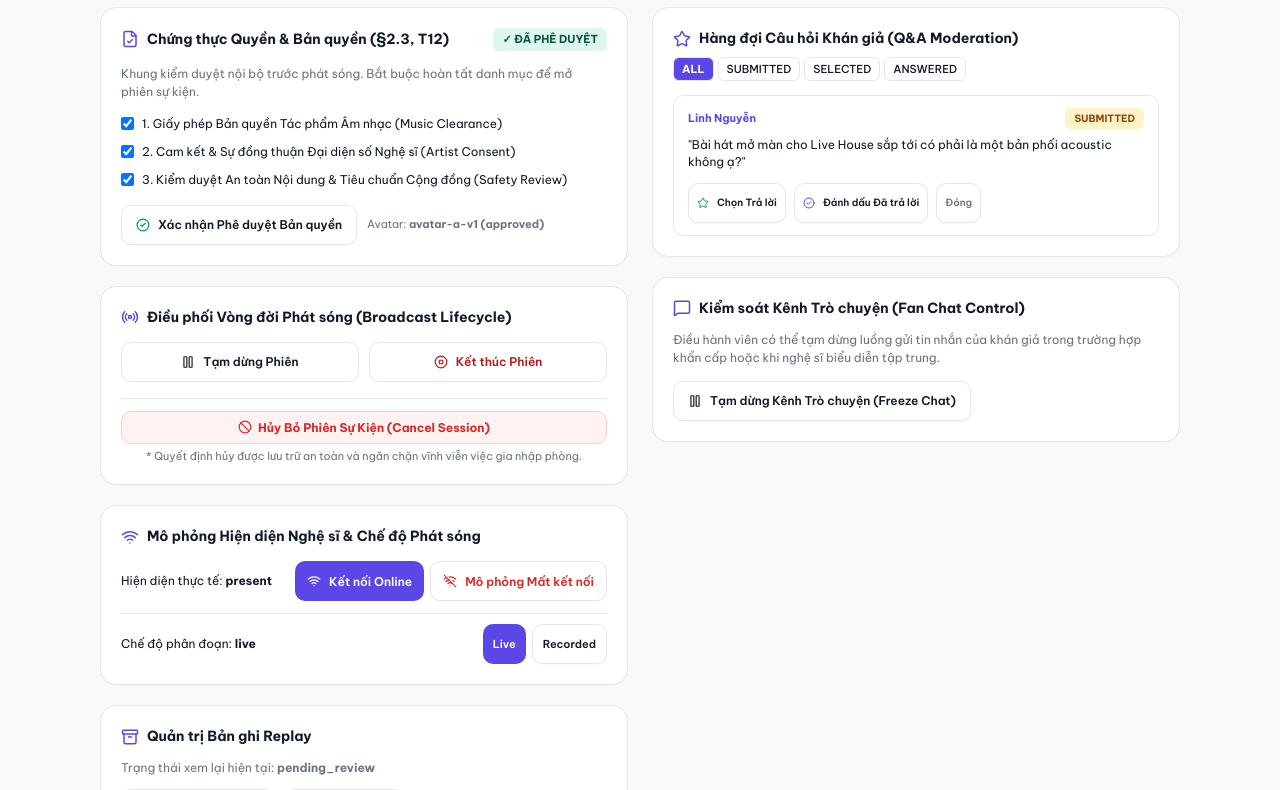
Scenario: T12 Acceptance: Operator Session Console & Orchestration › 3. Fan View Propagation & Moderation Sync › Operator chat pause freezes Fan chat input and renders pause notice
(page scrolled)
Note: Pause chat
What coordinates should you click on to do the following:
click the button with test id "toggle-chat-pause-btn"
I would click on:
 (822, 401)
Its box is [673,381,971,421].
(page scrolled)
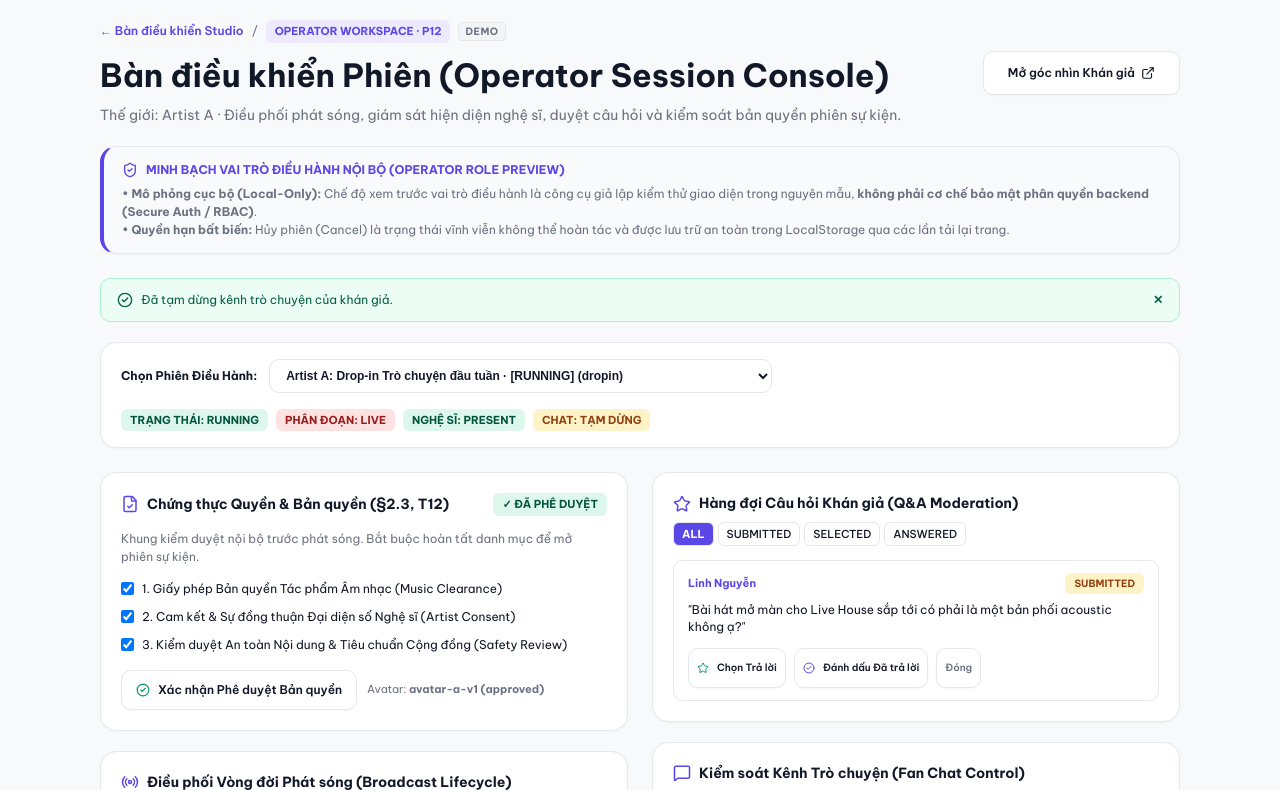
Check: the text "Đã tạm dừng kênh trò chuyện của khán giả." is shown, box [141,290,393,308]
Note: Navigate to Fan Stage View
What coordinates should you click on to do the following:
click the link with test id "view-fan-stage-link"
I would click on:
 (1081, 72)
Its box is [983,50,1180,94].
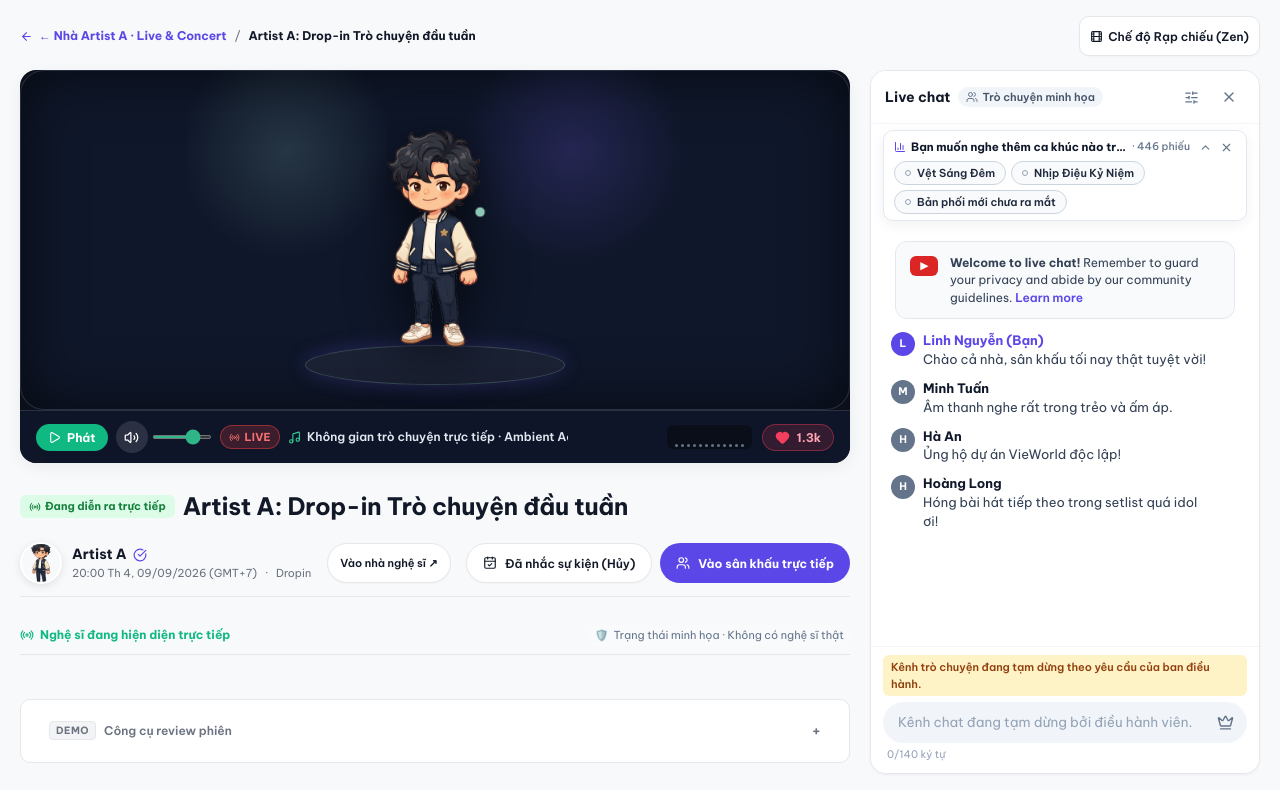
Check: the text with test id "chat-paused-notice" is shown, box [883,655,1247,696]
Check: the field with test id "chat-input-field" is disabled, box [898,707,1202,738]
